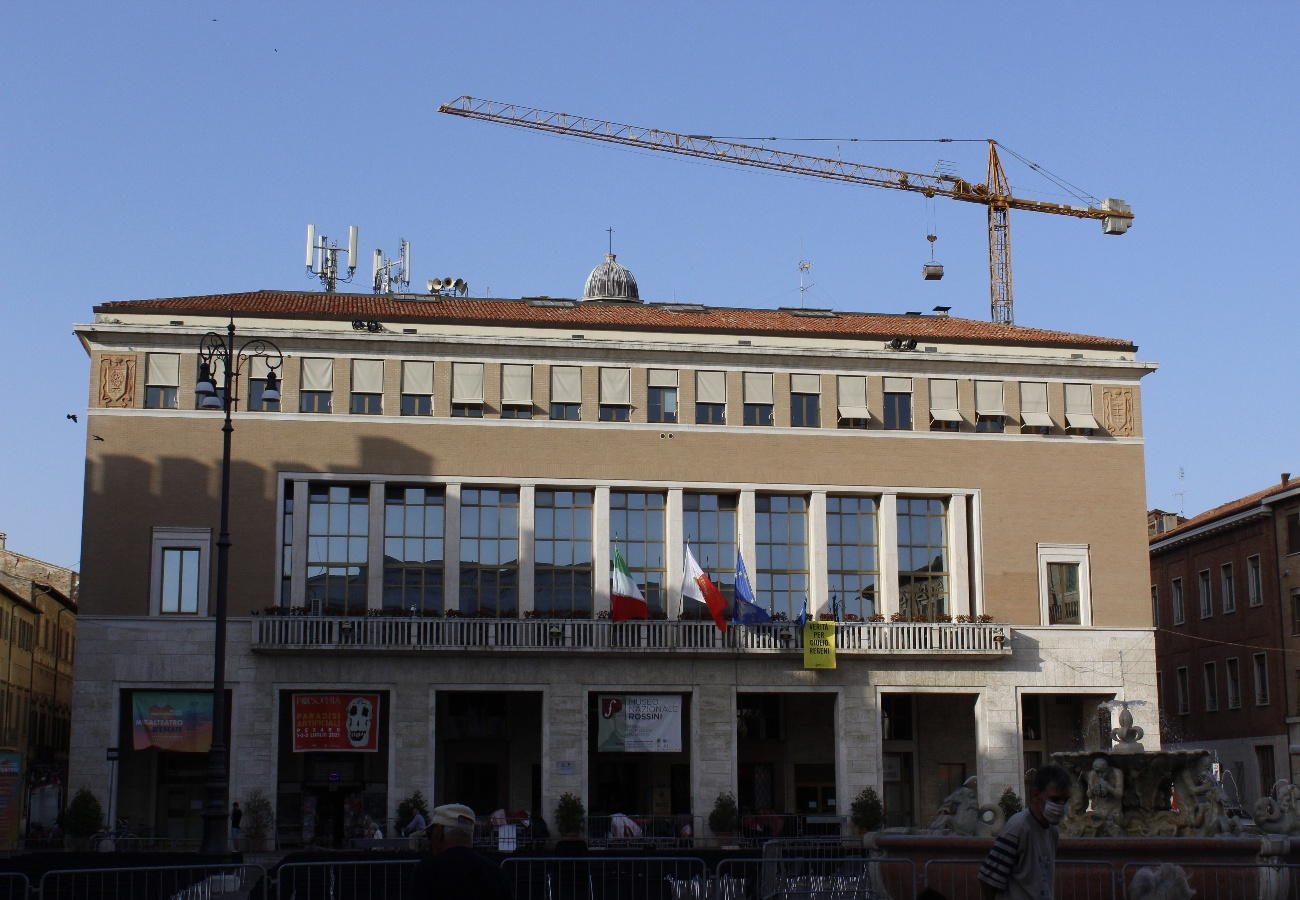Fontana Piazza del Popolo: (1044, 745, 1225, 839)
Palazzo Comunale: (91, 323, 1150, 838)
